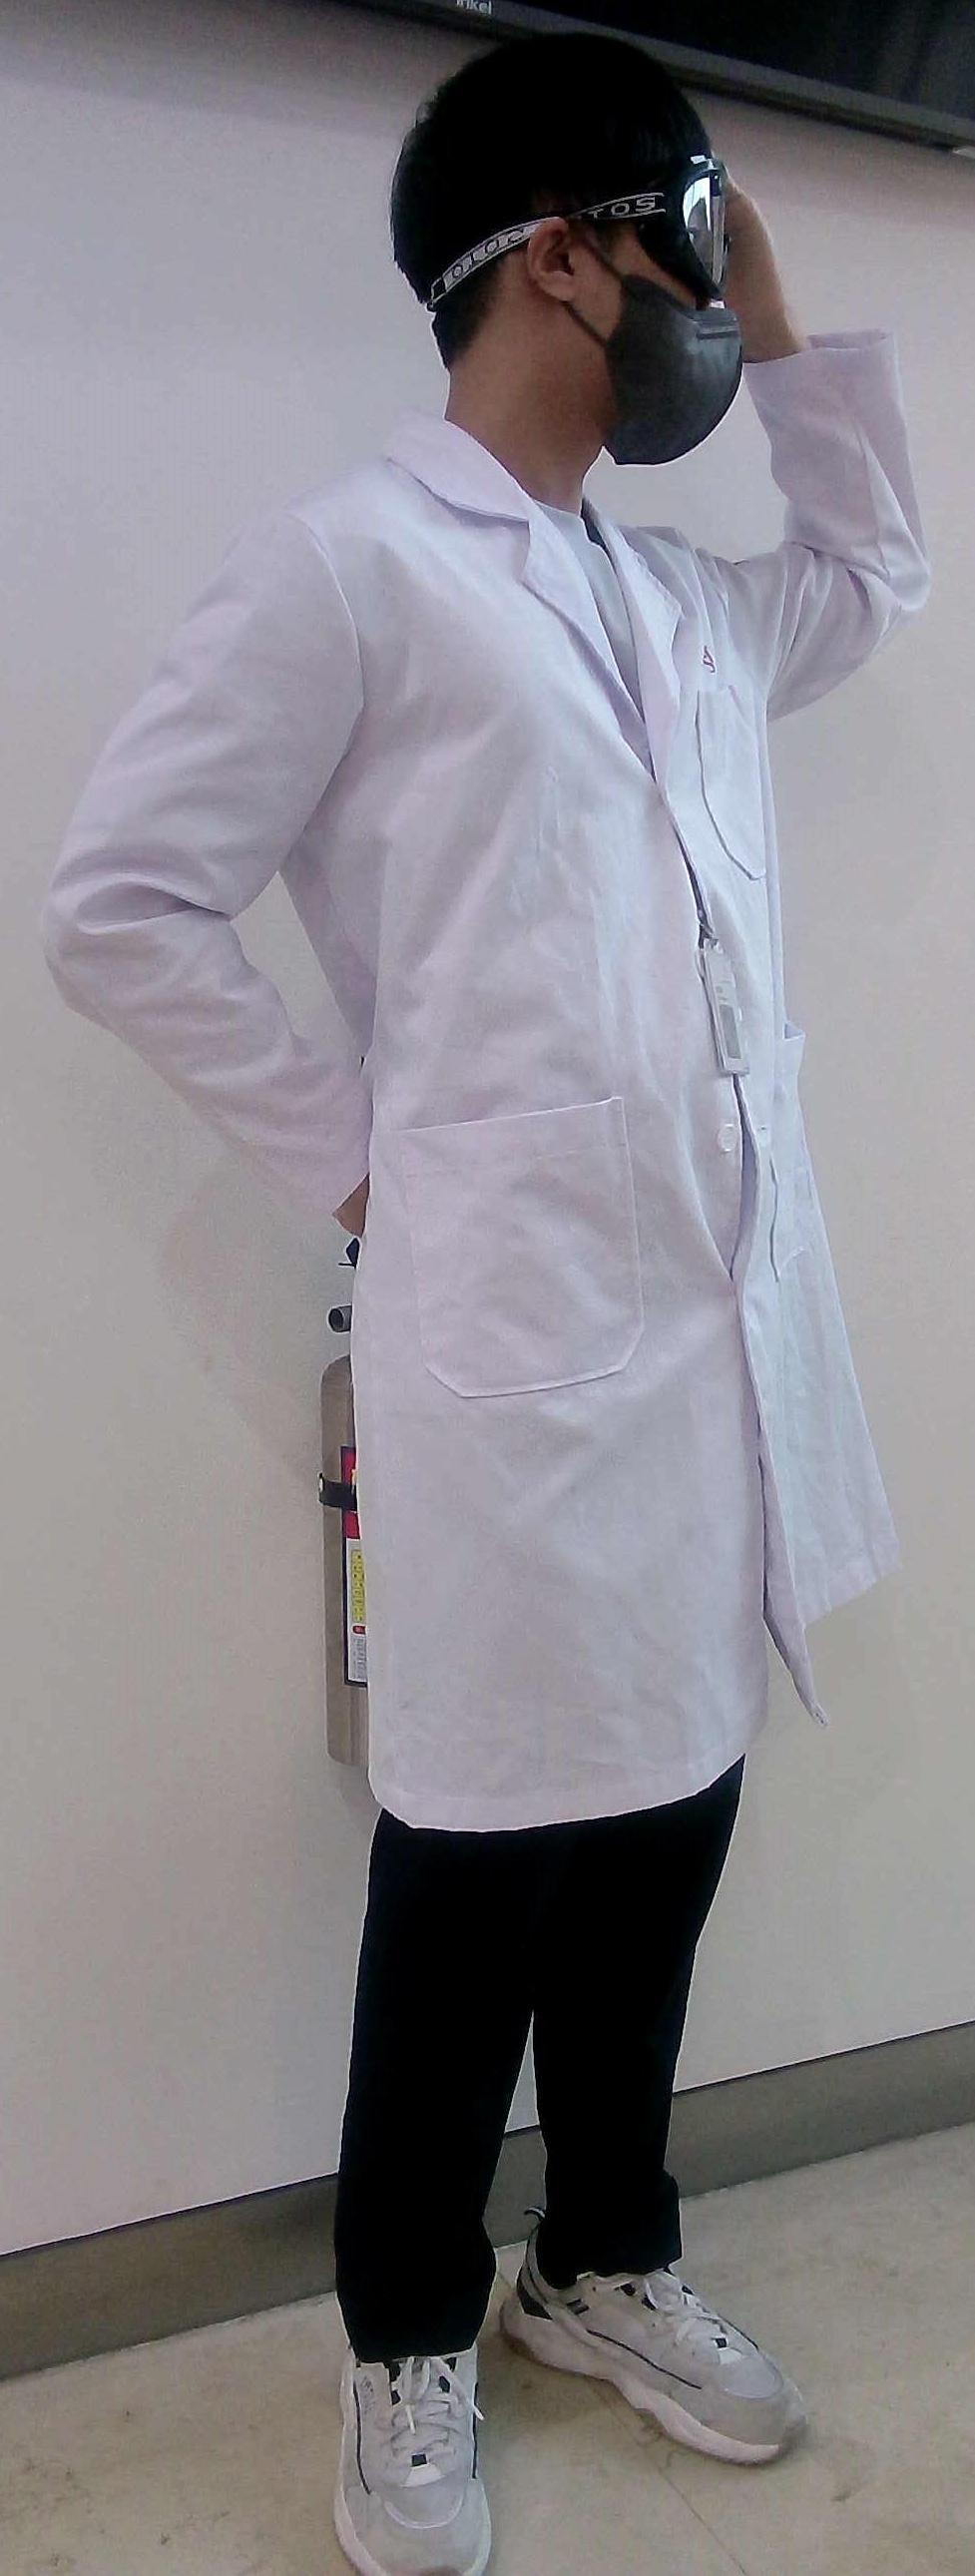lab_coat: (199, 476, 926, 1829)
